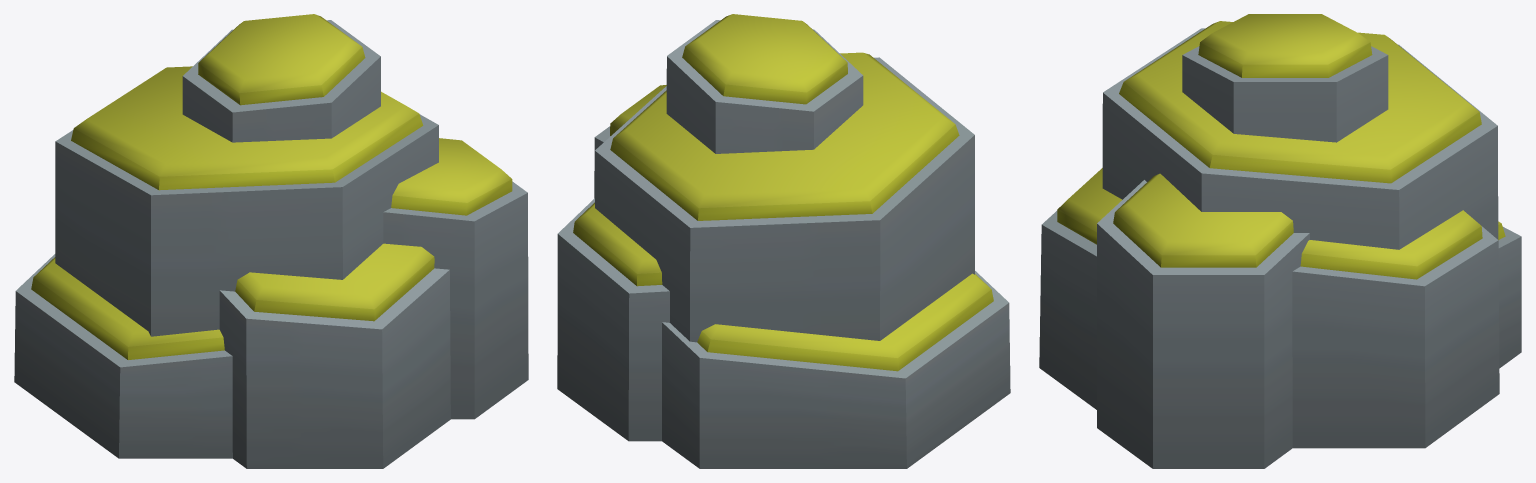
The model's file is mountain_a_grass.glb.
3 renders of one model, left to right at view 1: azimuth 30°, elevation 25°; view 2: azimuth 150°, elevation 25°; view 3: azimuth 270°, elevation 25°, orthographic. The views are drawn at different scales.
Parts seen in each view (by area): view 1: mountain_A_grass; view 2: mountain_A_grass; view 3: mountain_A_grass.
Boxes of the visible parts, x1,y1,x2,y2 form: mountain_A_grass: [14, 14, 528, 468]; mountain_A_grass: [557, 14, 1010, 468]; mountain_A_grass: [1039, 14, 1521, 468].
Bounding box in the file's own units: 1.8 × 1.5 × 1.88.
Materials: 1 (1 with a texture image).
